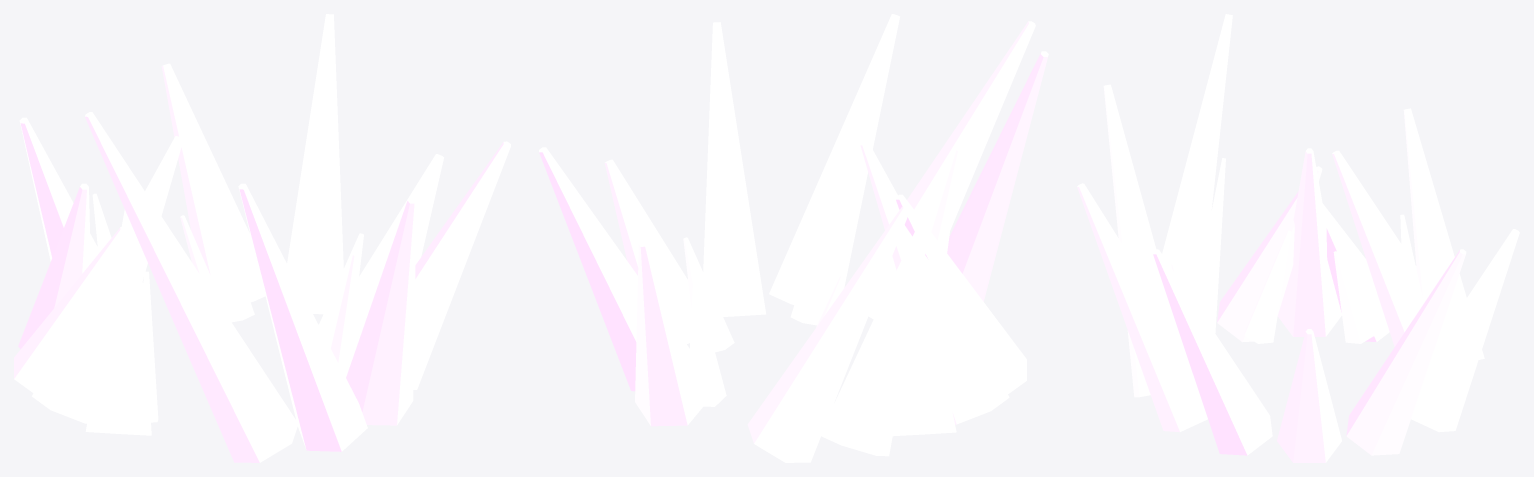
File: SM_Keeper_OverlordEcho_Body.fbx
The picture shows the model from 3 angles, left to right: view 1: azimuth 30°, elevation 25°; view 2: azimuth 150°, elevation 25°; view 3: azimuth 270°, elevation 25°; orthographic projection. The views are drawn at different scales.
Parts seen in each view (by area): view 1: SM_Keeper_OverlordEcho_Body; view 2: SM_Keeper_OverlordEcho_Body; view 3: SM_Keeper_OverlordEcho_Body.
Part boxes in pixels (x1,y1,x2,y2): SM_Keeper_OverlordEcho_Body: (14, 14, 510, 462); SM_Keeper_OverlordEcho_Body: (539, 14, 1048, 462); SM_Keeper_OverlordEcho_Body: (1077, 14, 1519, 462).
Size of the model in its own units: 4.2 by 3.5 by 4.61.
